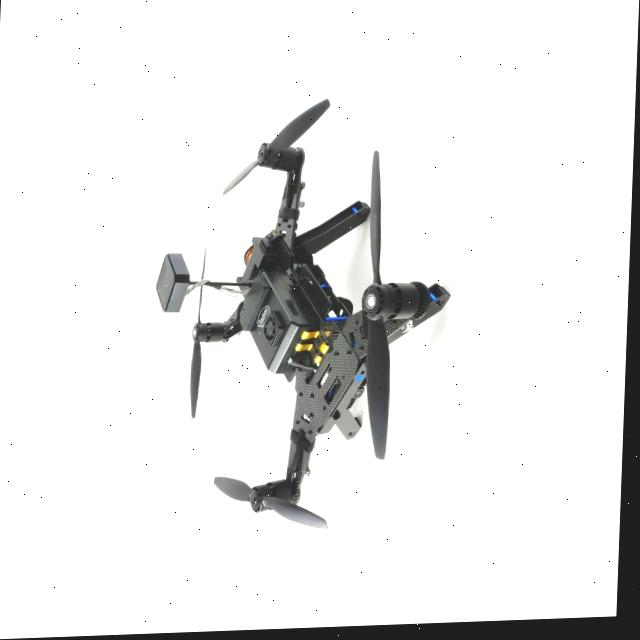drone: (123, 76, 475, 566)
